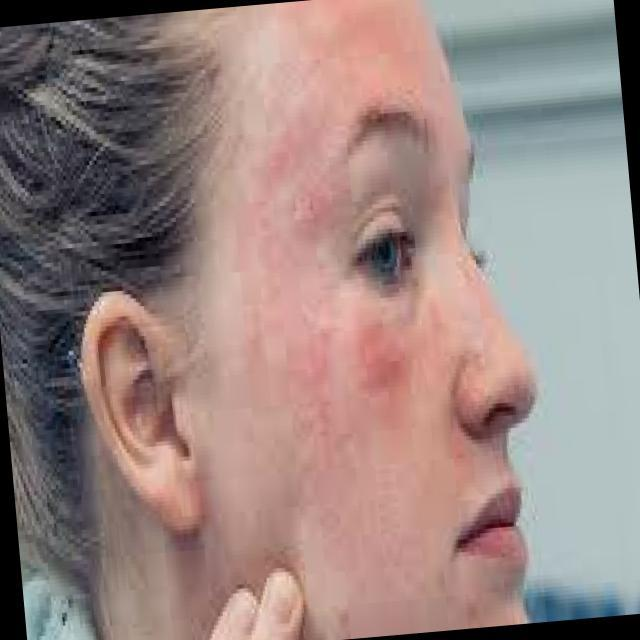Eczema: (226, 14, 414, 466)
